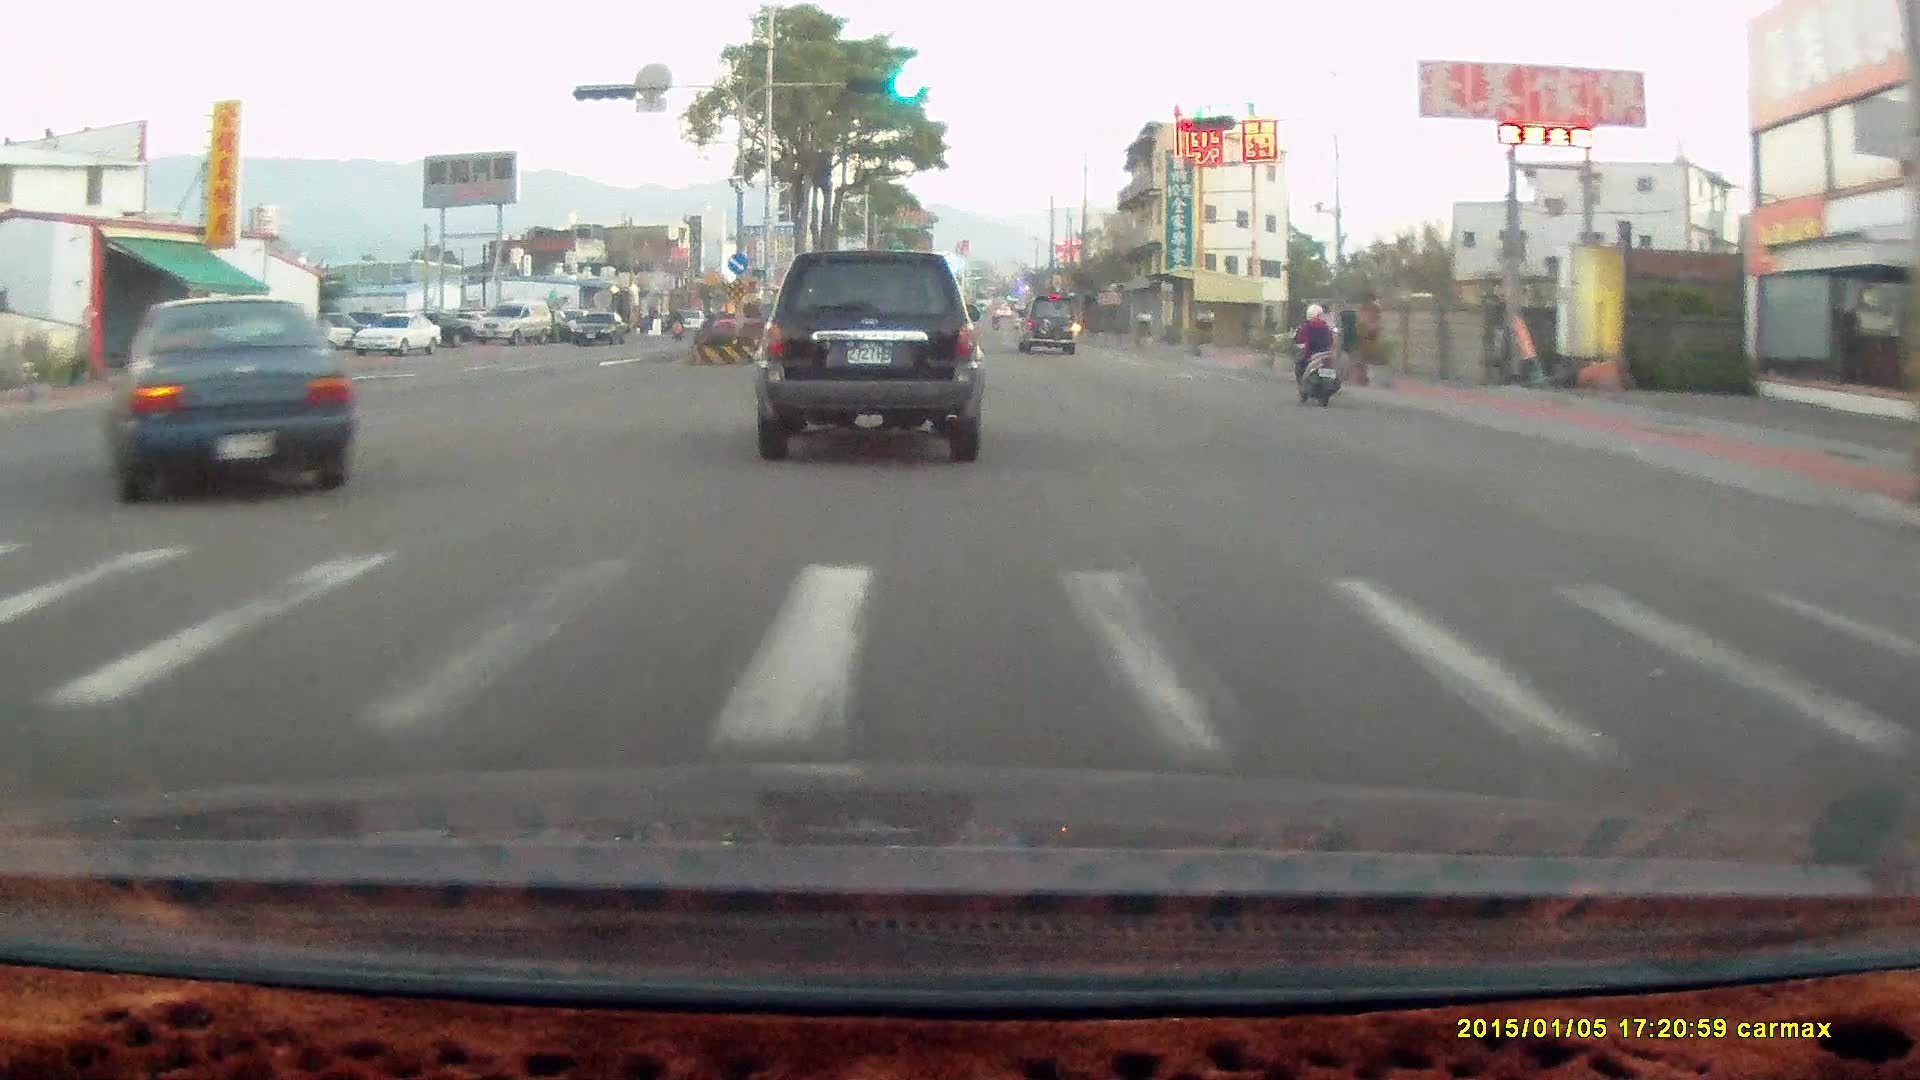rider: (1281, 293, 1354, 417), (1288, 301, 1342, 410)
vehicle: (90, 296, 350, 512), (100, 297, 353, 508), (761, 250, 992, 464), (752, 249, 983, 462), (1021, 296, 1082, 361), (471, 303, 553, 352), (353, 310, 440, 355), (353, 315, 441, 360), (471, 298, 552, 345), (1016, 296, 1079, 355), (393, 311, 472, 348), (571, 315, 628, 349), (570, 311, 626, 344)
